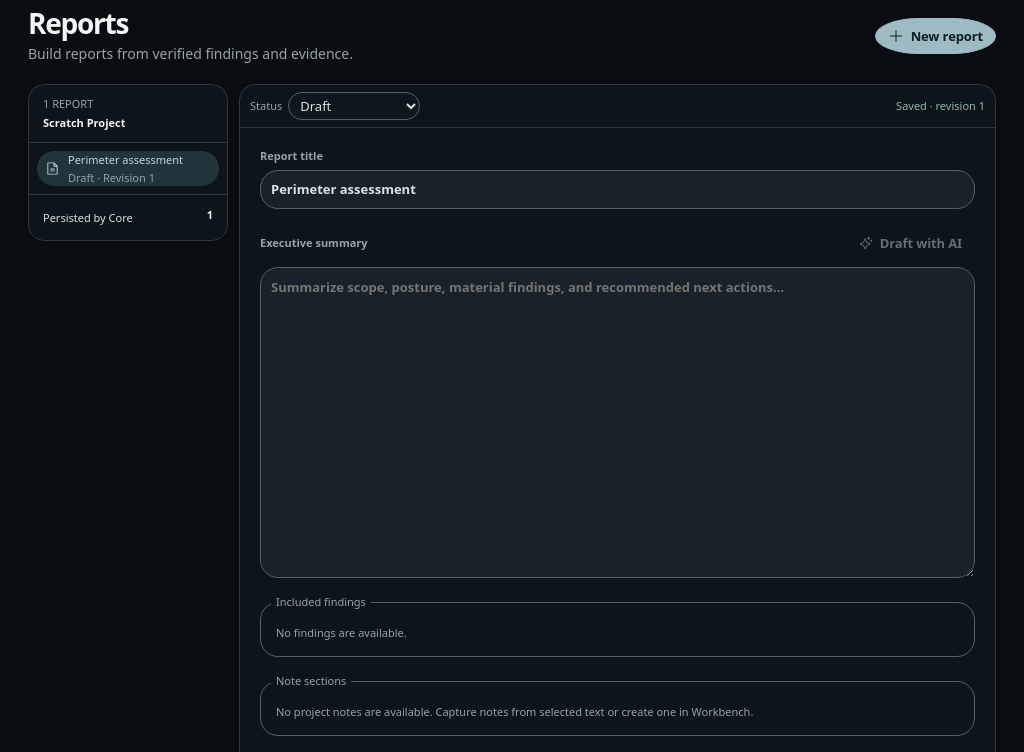
Test: report editor › keeps keystrokes typed while a save is in flight and leaves them unsaved
The image size is (1024, 752).
Type "Perimeter is exposed" into the text box with placeholder "Summarize scope".
click(618, 423); type("Perimeter is exposed")  # box [260,267,975,578]
(page scrolled)
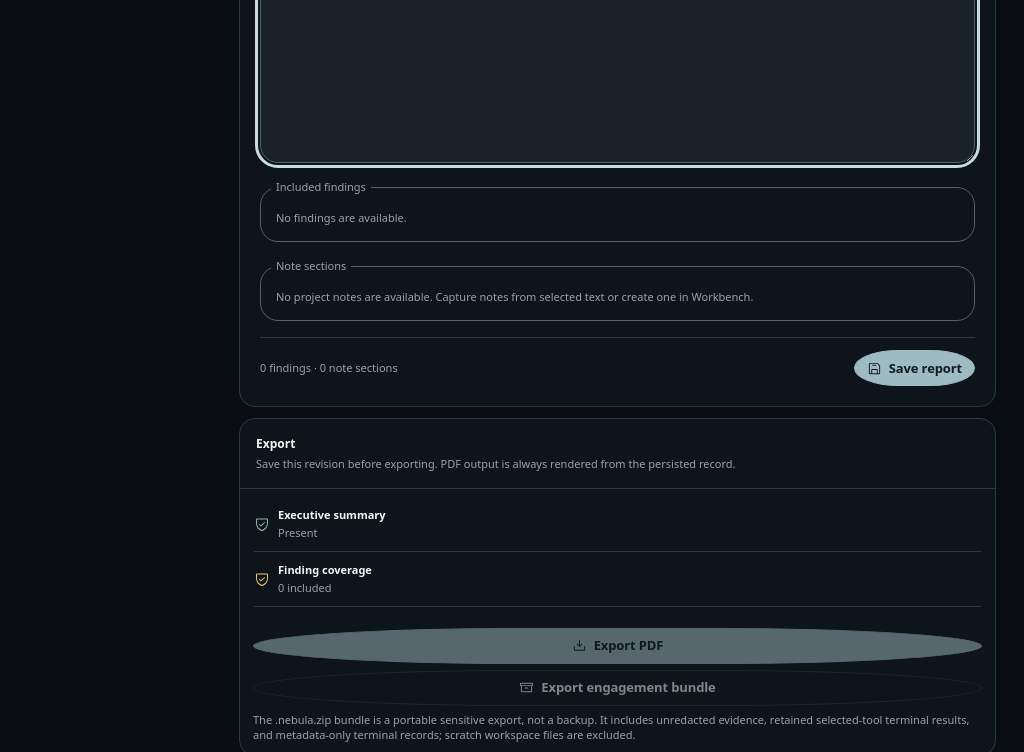
Click the button "Save report".
click(914, 368)  # box [854,350,975,386]
(page scrolled)
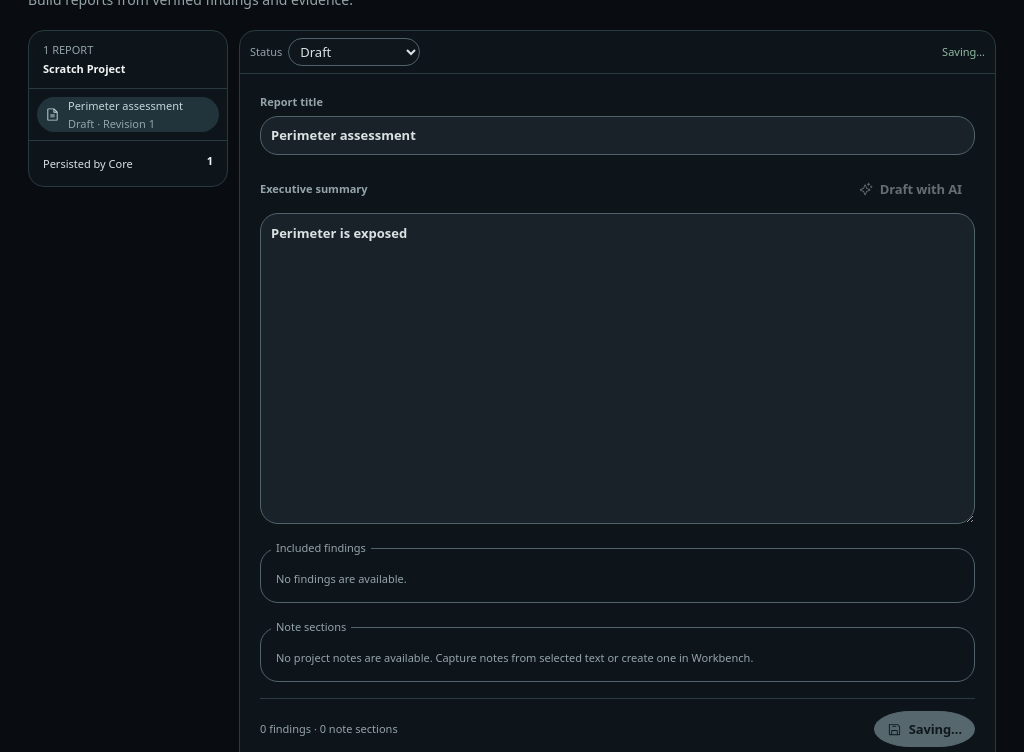
Now the button "Saving…" is disabled, box [874,711,975,747]
Type " on port 443" into the text box with placeholder "Summarize scope".
click(618, 369); type(" on port 443")  # box [260,213,975,524]
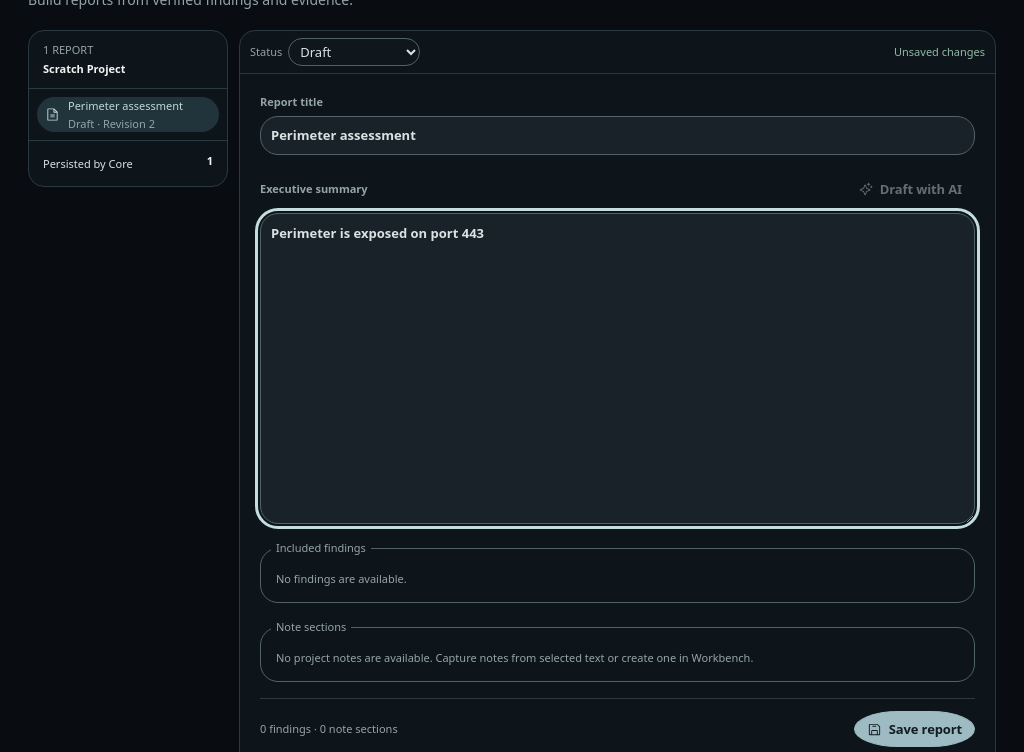
Now the button "Save report" is enabled, box [854,711,975,747]
Now the text box with placeholder "Summarize scope" holds "Perimeter is exposed on port 443", box [260,213,975,524]
Now the text "Unsaved changes" is shown, box [894,44,985,60]
